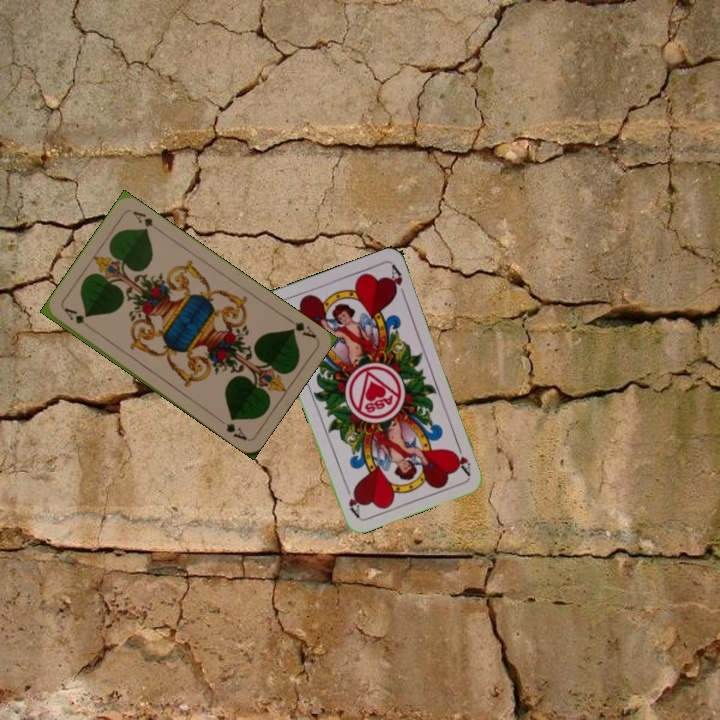GA: (283, 313, 319, 341), (60, 304, 94, 333)
HA: (450, 438, 473, 478)
